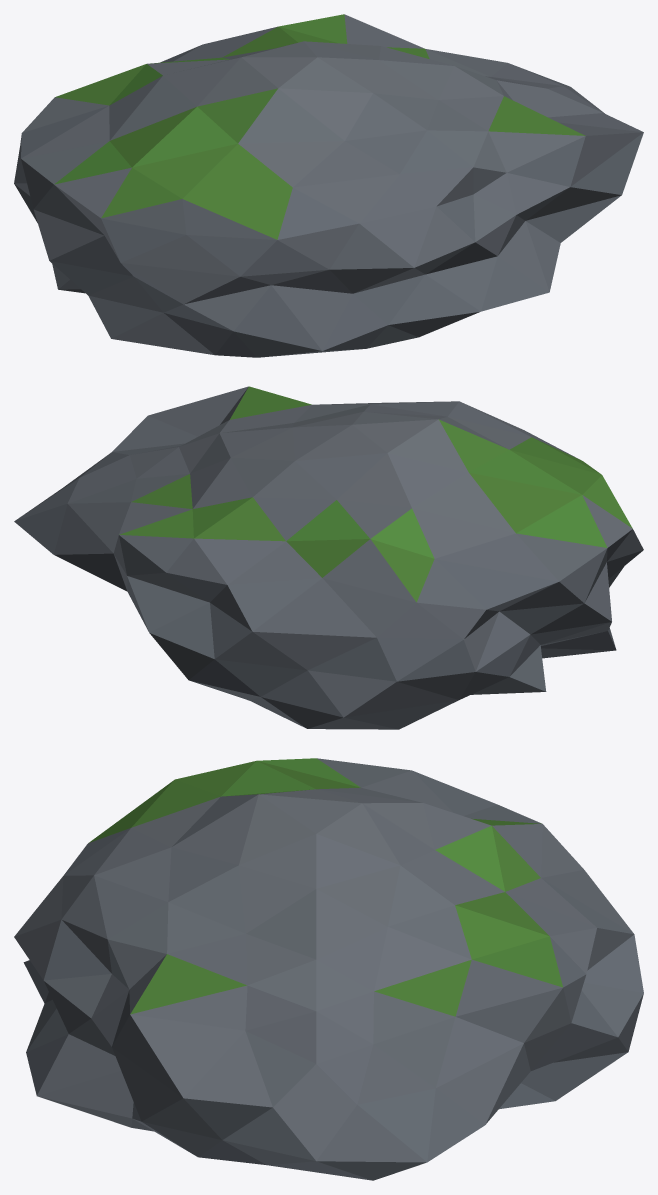
File: rock-3.glb
3 views of the same model, one above another, from view 1: azimuth 30°, elevation 25°; view 2: azimuth 150°, elevation 25°; view 3: azimuth 270°, elevation 25° (orthographic). The views are drawn at different scales.
Visible parts, largest first — view 1: rock-3; view 2: rock-3; view 3: rock-3.
Part boxes in pixels (x1,y1,x2,y2): rock-3: (14, 14, 643, 357); rock-3: (14, 386, 643, 729); rock-3: (14, 758, 643, 1180).
Bounding box in the file's own units: 3.68 × 1.25 × 3.06.
